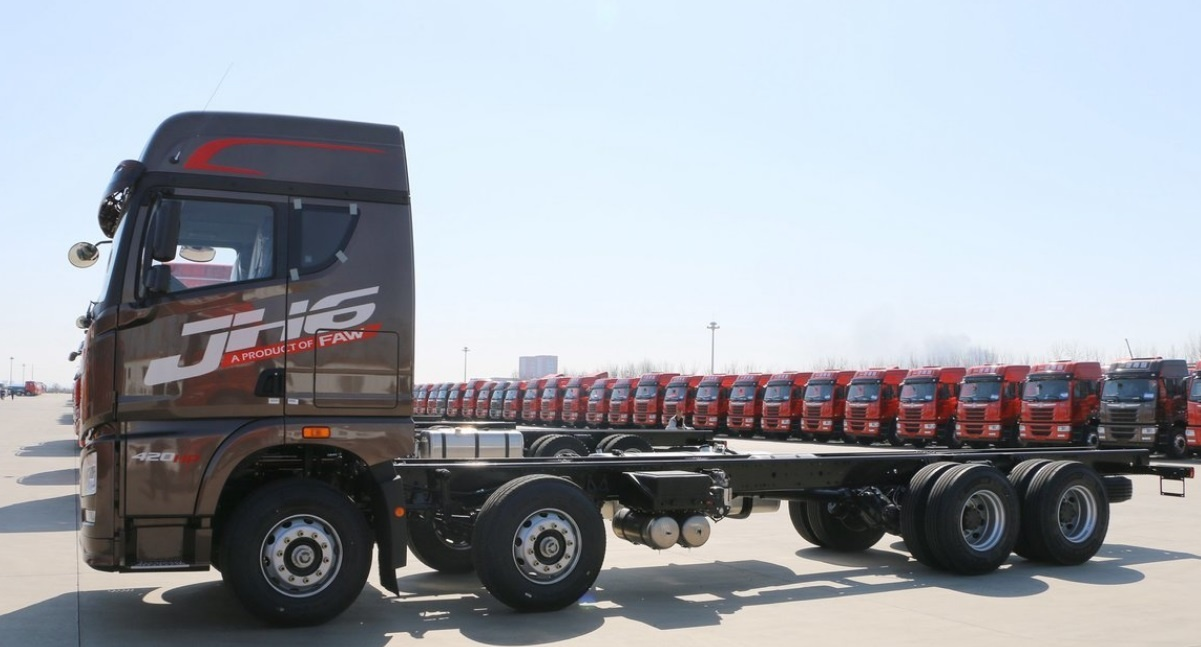heavy truck: (56, 92, 1171, 609)
